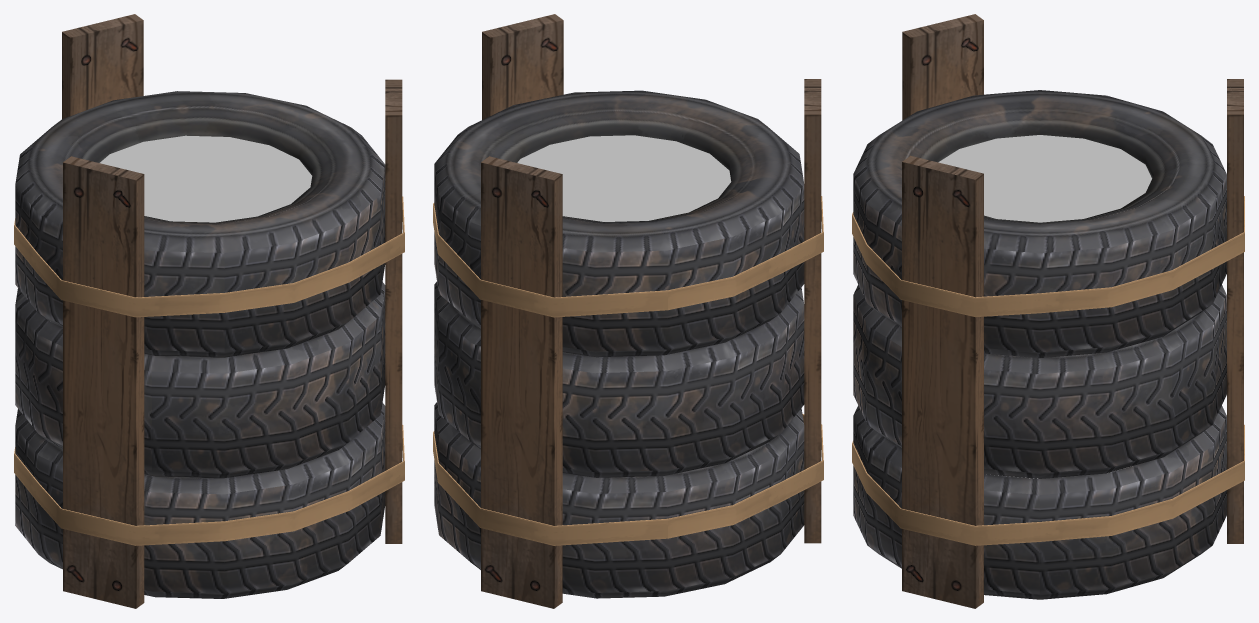
The model's file is raisedBed_tire03.fbx.
The picture shows the model from 3 angles, left to right: view 1: azimuth 30°, elevation 25°; view 2: azimuth 150°, elevation 25°; view 3: azimuth 270°, elevation 25°; orthographic projection.
Parts seen in each view (by area): view 1: raisedBed_tire03; view 2: raisedBed_tire03; view 3: raisedBed_tire03.
Part boxes in pixels (x1,y1,x2,y2): raisedBed_tire03: (14,14,404,608); raisedBed_tire03: (433,14,823,608); raisedBed_tire03: (852,14,1244,608).
Bounding box in the file's own units: 72.93 × 87.23 × 72.35.
